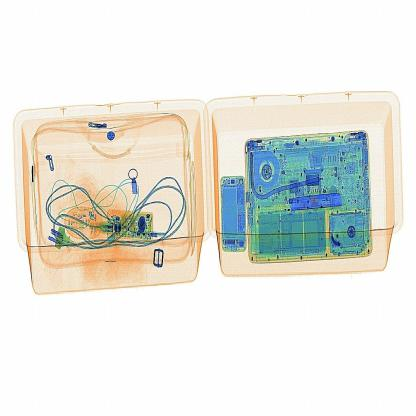pliers: (276, 178, 349, 224)
